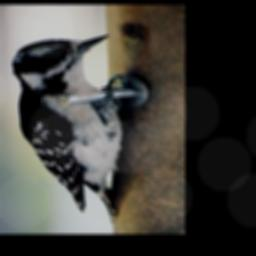Woodpecker: (11, 34, 130, 223)
